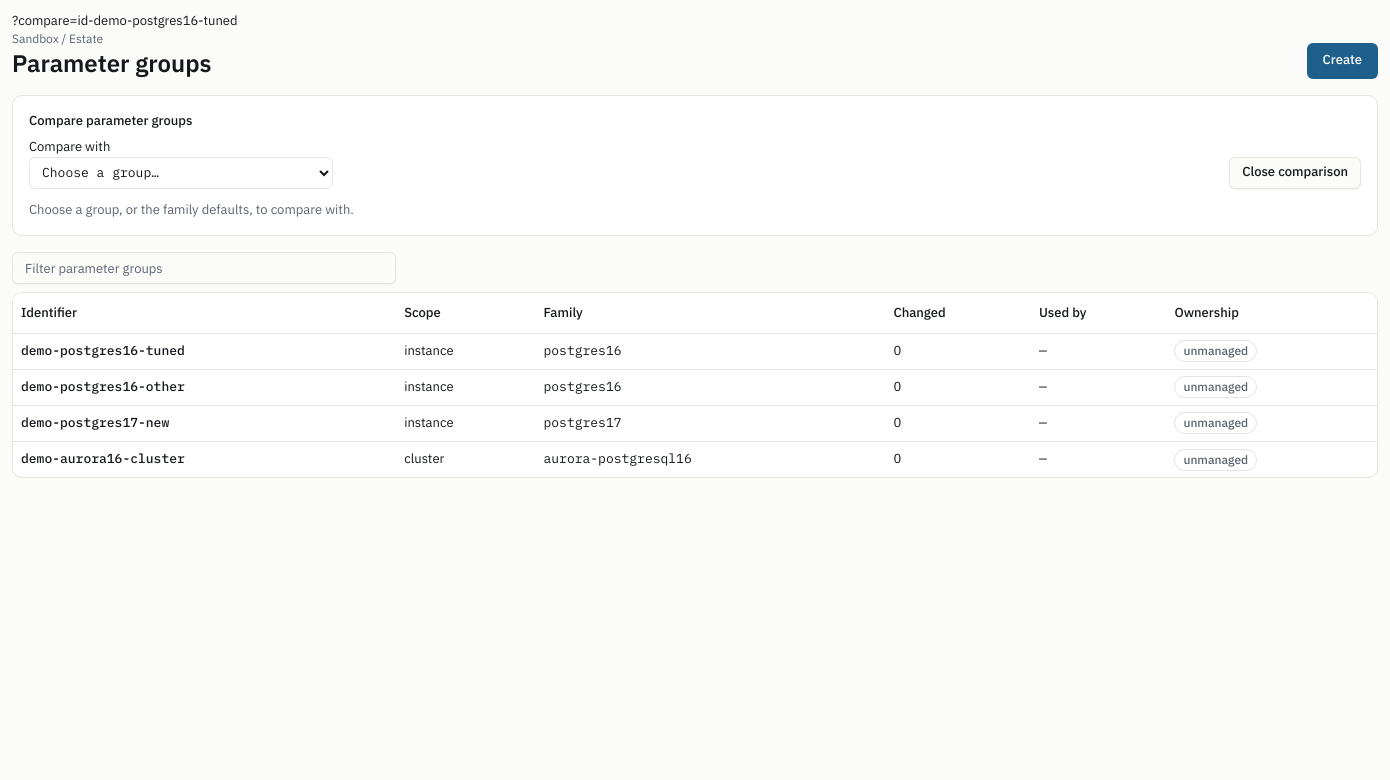
it: ParameterGroupsPage comparison › offers the other groups of the same scope and compares with the one chosen
This screenshot has width=1390, height=780.
Select "demo-postgres16-other (postgres16)" in the dropdown labelled "Compare with" at (181, 173), box [29,157,333,189]
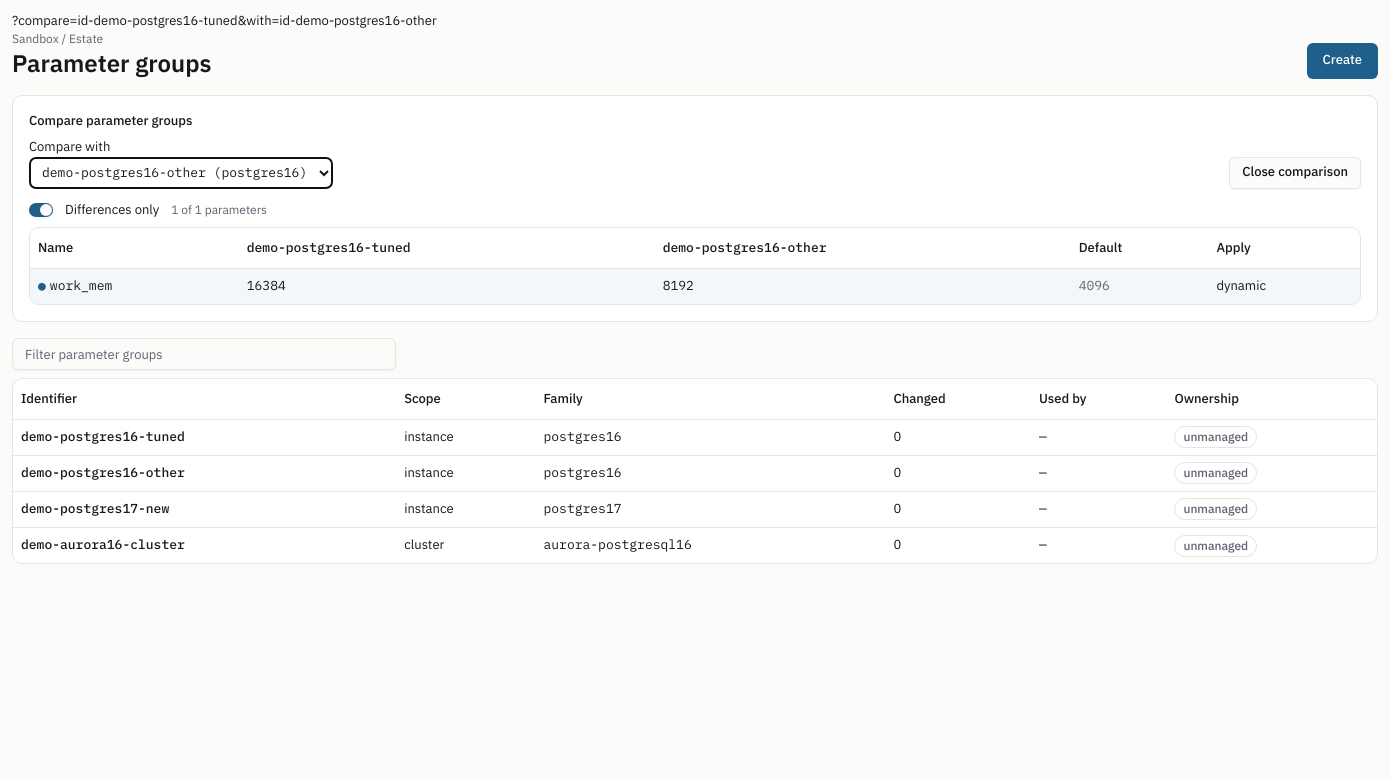
Expected: the column heading "demo-postgres16-other" is shown, [655,228,1071,268]
Expected: the text named "Address" reads "?compare=id-demo-postgres16-tuned&with=id-demo-postgres16-other", [12,12,437,29]
Select "Family defaults" in the dropdown labelled "Compare with" at (181, 173), box [29,157,333,189]
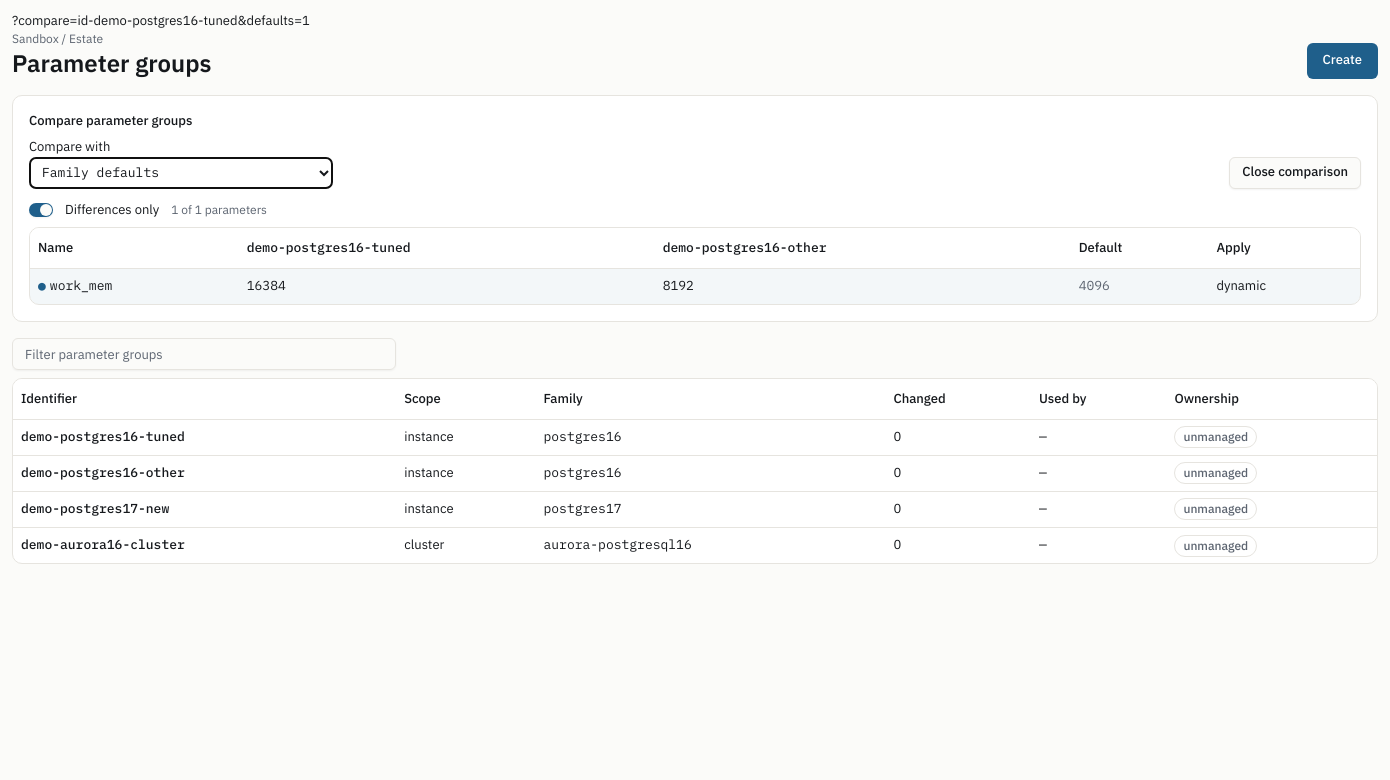
Expected: the text named "Address" reads "?compare=id-demo-postgres16-tuned&defaults=1", [12,12,310,29]
